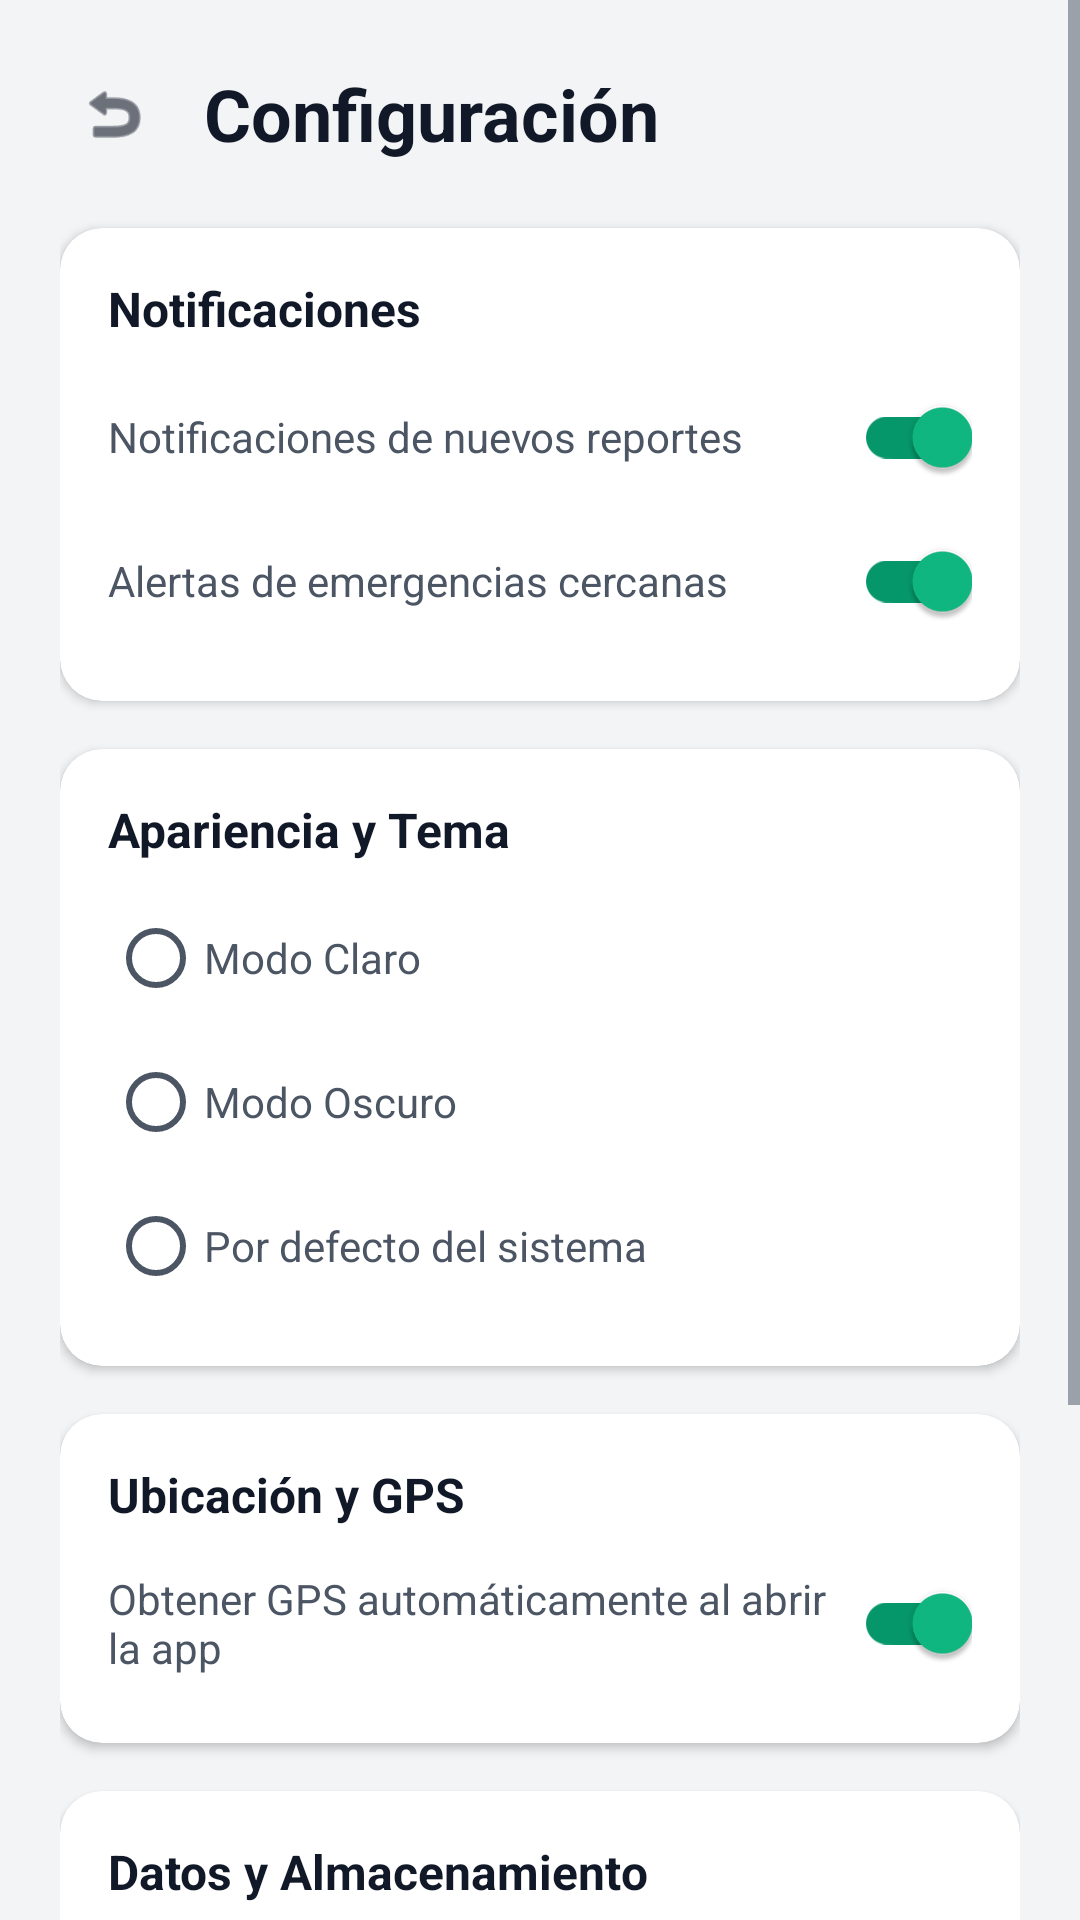

Icons on this 1080px x 1920px Android screen, each with the point to tap as (x,y):
revert: (115,114)
